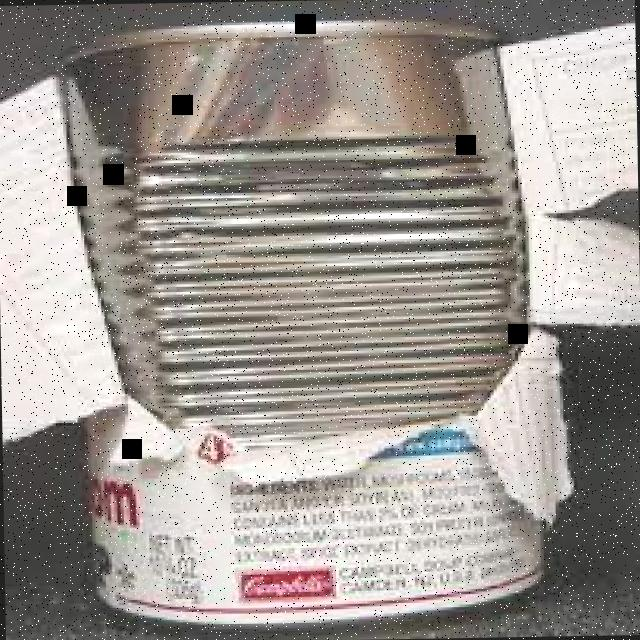can: (38, 13, 554, 636)
